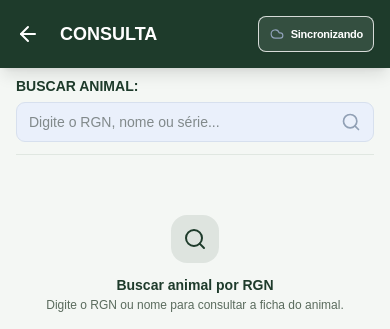
ConsultAnimals Page › deve exibir mensagem clara e botão de cadastrar quando animal não for encontrado
Type "99999" into the field with placeholder "Digite o RGN, nome ou série...". click: [173, 122]
box: [17, 102, 329, 142]
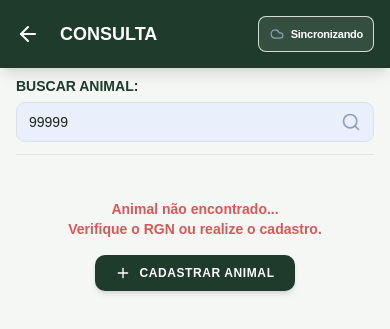
Check: the text "Animal não encontrado" is shown, box [111, 201, 279, 217]
Check: the link "Cadastrar Animal" is shown, box [95, 255, 295, 291]
